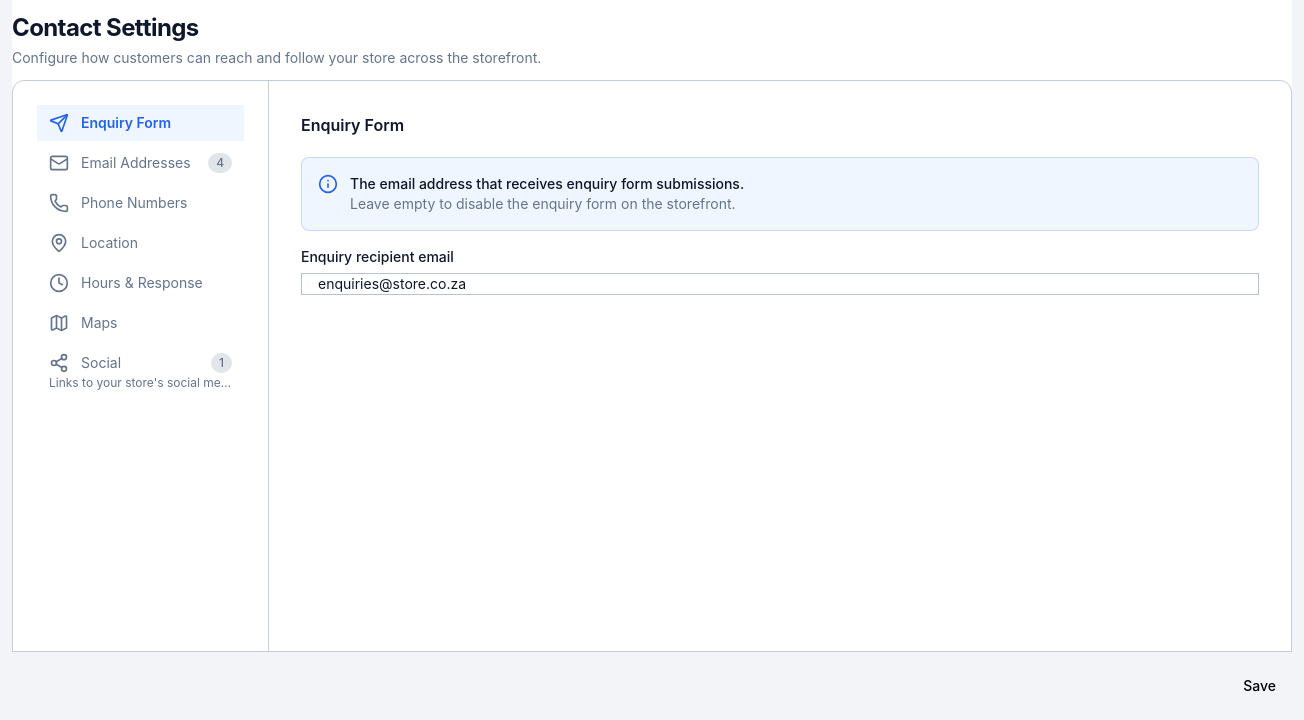
Test: ContactEditorPage › email/phone table pagination › shows at most 3 rows per page, with next/prev paging through the rest
Expected: the field showing "enquiries@store.co.za" is shown, [301,273,1259,295]
Click the tab "Email Addresses 4" at [140, 163], box [37,145,244,181]
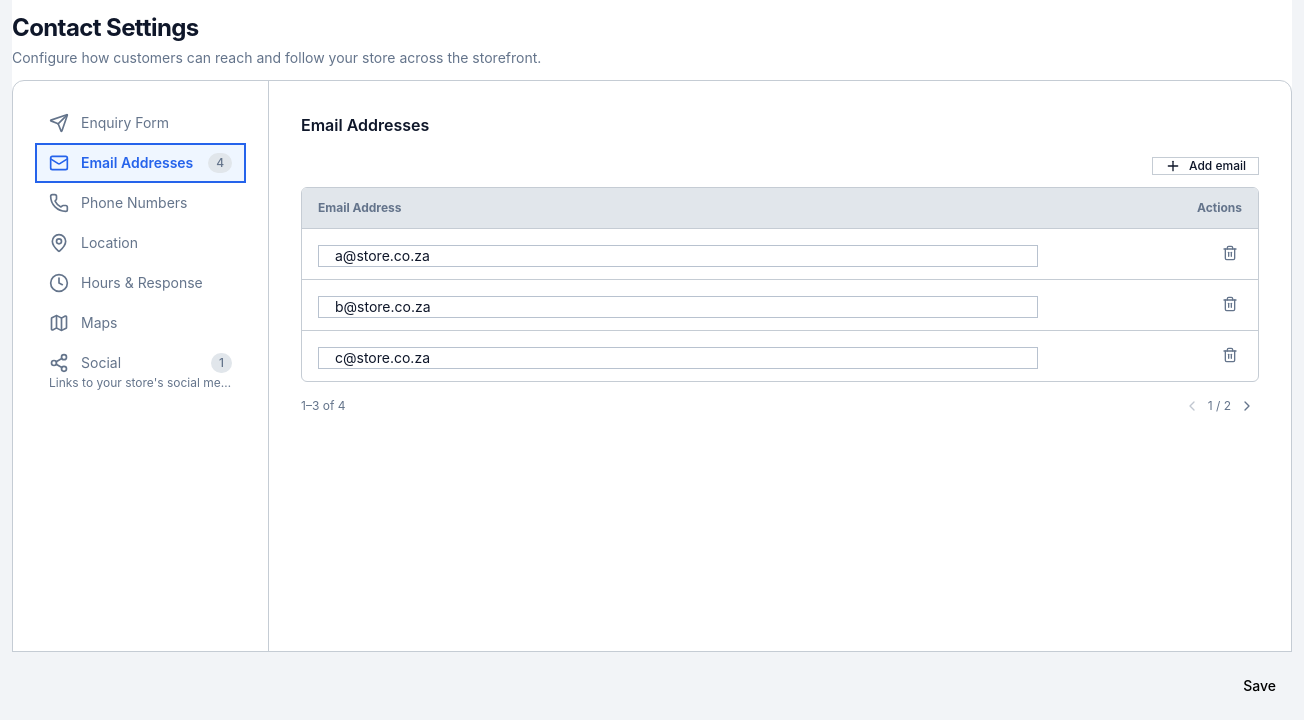
Now the field showing "a@store.co.za" is shown, box [318,245,1038,267]
Now the field showing "b@store.co.za" is shown, box [318,296,1038,318]
Now the field showing "c@store.co.za" is shown, box [318,347,1038,369]
Click the button named "Next page of email addresses" at [1247, 406], box [1235,394,1259,418]
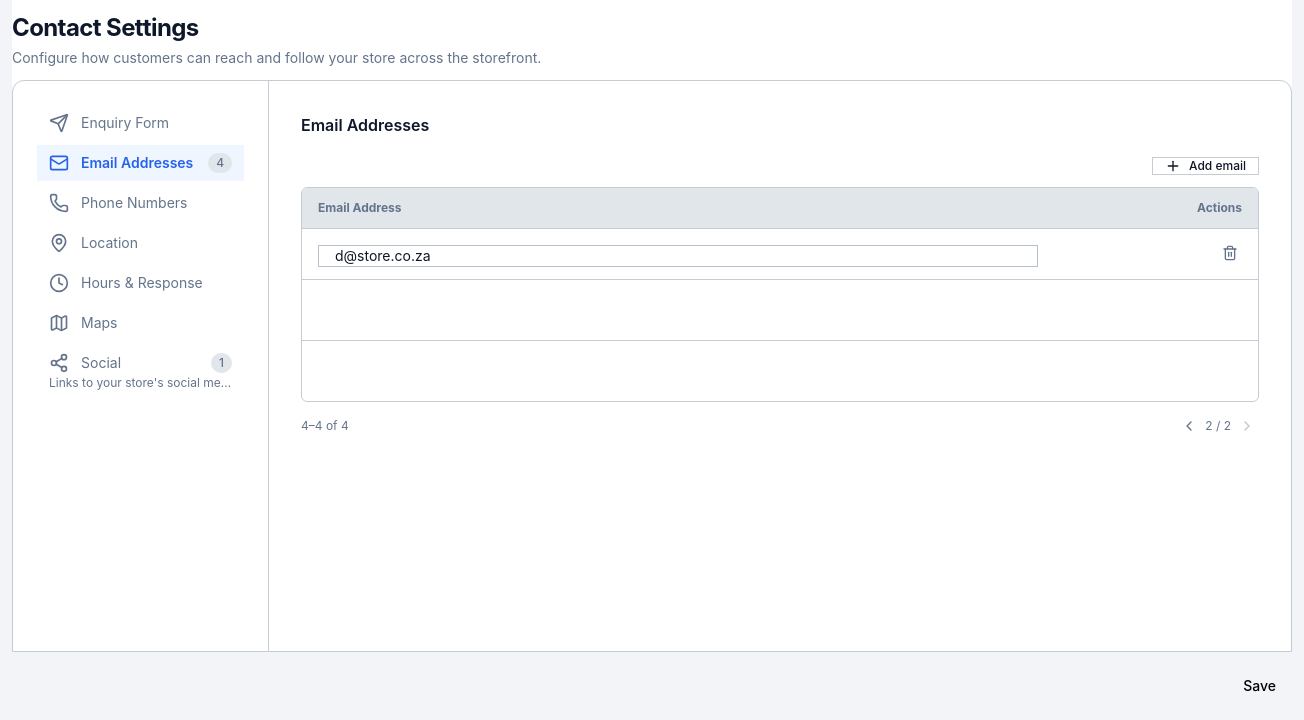
Expected: the field showing "a@store.co.za" is not shown
Now the field showing "d@store.co.za" is shown, box [318,245,1038,267]
Now the text "4–4 of 4" is shown, box [301,418,349,434]
Click the button named "Previous page of email addresses" at [1189, 426], box [1177,414,1201,438]
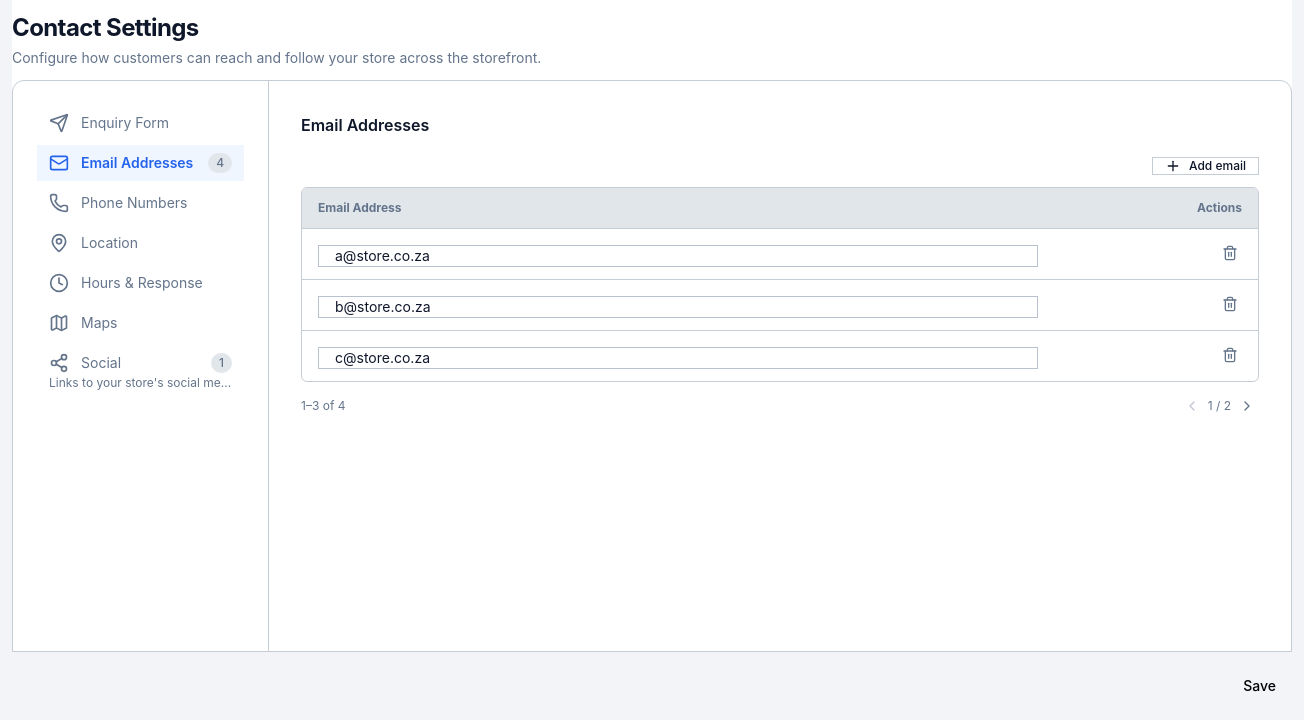
Now the field showing "a@store.co.za" is shown, box [318,245,1038,267]
